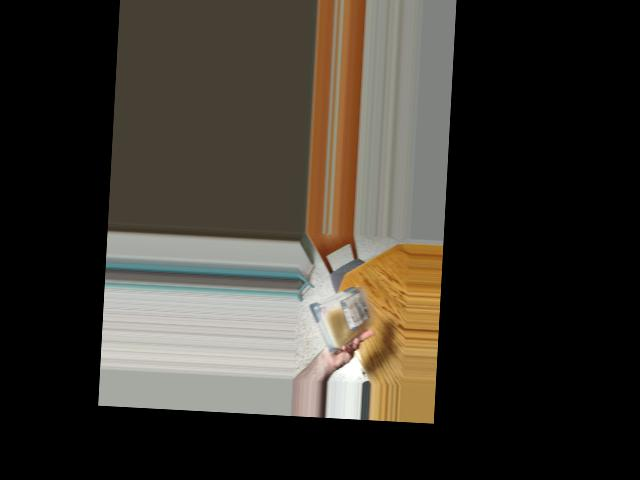cheese: (319, 287, 371, 349)
